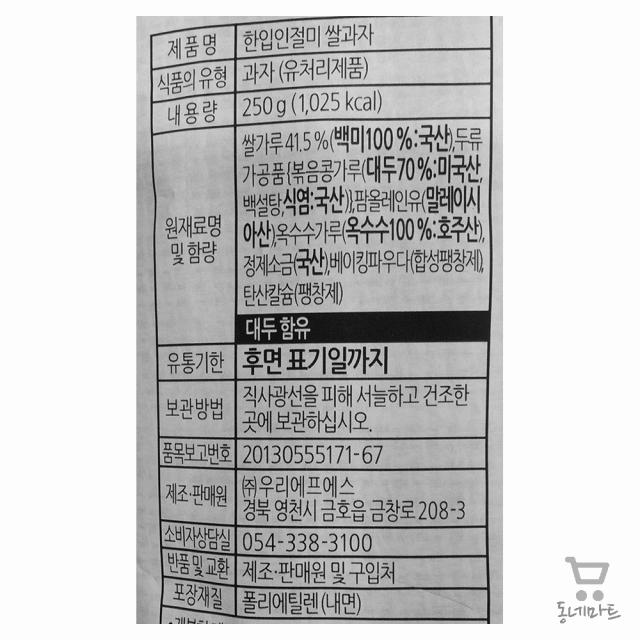Nutrition Label: (137, 11, 508, 634)
